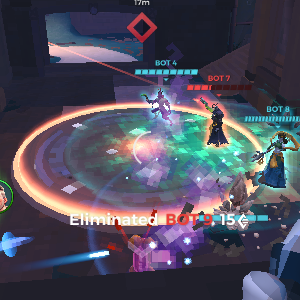model: (199, 94, 226, 149)
